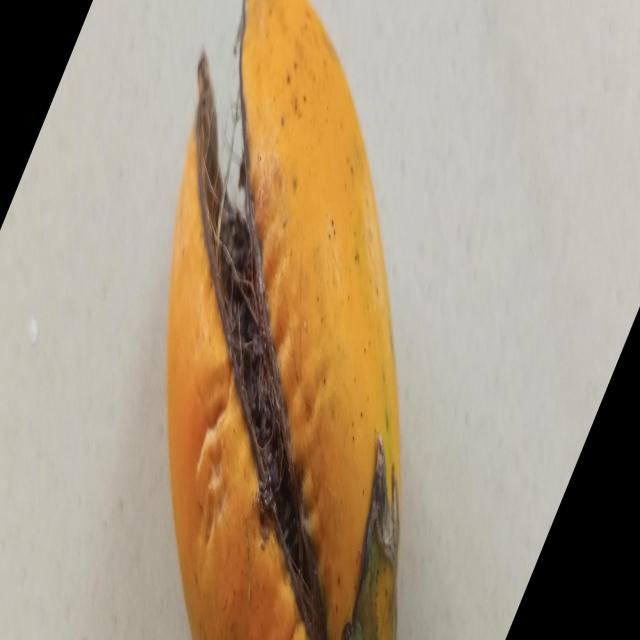damaged: (164, 0, 402, 640)
